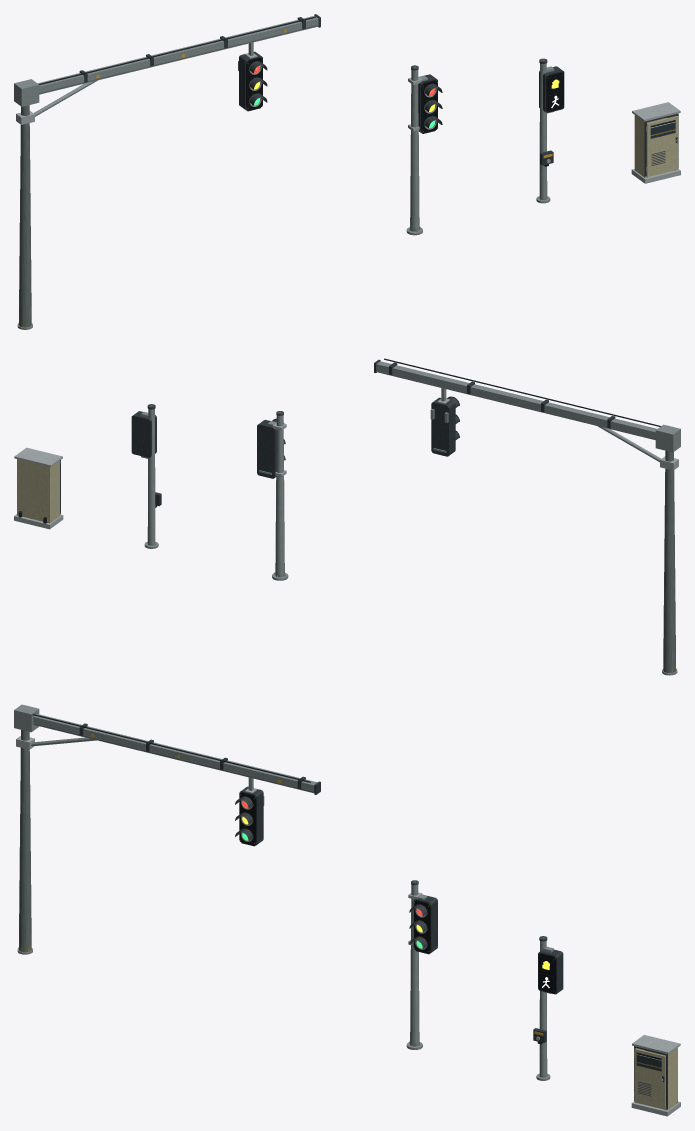
File: ProjectZ_Traffic_Light_Signal_Set.glb
3 views of the same model, one above another, from view 1: azimuth 30°, elevation 25°; view 2: azimuth 150°, elevation 25°; view 3: azimuth 330°, elevation 25° (orthographic).
Parts seen in each view (by area): view 1: MastArm_Primary_TaperedSquareBeam_7p50m, Mast_Tapered_Galvanized_Pole_5p92m, Cabinet_Door_INDEPENDENT_Leaf_LOCAL_X0_TO_0p79, Roadside_Column_Tapered4p05M, Pedestrian_Pole_3p45m, Cabinet_SheetMetal_WallLeft, MastArm_Top_MountingCollar, MastArm_CableConduit, Cabinet_Rainproof_OverhangingRoof, MastArm_Front_LongitudinalSeam, Overhead_Faceplate_Recessed_Dark, Roadside_Faceplate_Recessed_Dark; view 2: MastArm_Primary_TaperedSquareBeam_7p50m, Mast_Tapered_Galvanized_Pole_5p92m, Cabinet_SheetMetal_BackPanel, Roadside_Column_Tapered4p05M, Overhead_Housing_RoundedPolymer_Body, Roadside_Housing_RoundedPolymer_Body, Ped_Display_RoundedWeatherproofHousing, Pedestrian_Pole_3p45m, MastArm_Top_MountingCollar, Cabinet_SheetMetal_WallLeft, MastArm_CableConduit, Cabinet_Rainproof_OverhangingRoof; view 3: MastArm_Primary_TaperedSquareBeam_7p50m, Mast_Tapered_Galvanized_Pole_5p92m, Cabinet_Door_INDEPENDENT_Leaf_LOCAL_X0_TO_0p79, Roadside_Column_Tapered4p05M, Pedestrian_Pole_3p45m.
Boxes of the visible parts, left/top/right/bottom form: MastArm_Primary_TaperedSquareBeam_7p50m: left=38, top=15, right=318, bottom=94; Mast_Tapered_Galvanized_Pole_5p92m: left=18, top=105, right=31, bottom=327; Cabinet_Door_INDEPENDENT_Leaf_LOCAL_X0_TO_0p79: left=646, top=116, right=678, bottom=176; Roadside_Column_Tapered4p05M: left=410, top=70, right=419, bottom=231; Pedestrian_Pole_3p45m: left=539, top=63, right=547, bottom=199; Cabinet_SheetMetal_WallLeft: left=634, top=115, right=645, bottom=177; MastArm_Top_MountingCollar: left=14, top=79, right=39, bottom=106; MastArm_CableConduit: left=39, top=16, right=315, bottom=84; Cabinet_Rainproof_OverhangingRoof: left=632, top=102, right=680, bottom=121; MastArm_Front_LongitudinalSeam: left=39, top=25, right=317, bottom=93; Overhead_Faceplate_Recessed_Dark: left=246, top=57, right=262, bottom=110; Roadside_Faceplate_Recessed_Dark: left=421, top=80, right=437, bottom=132; MastArm_Primary_TaperedSquareBeam_7p50m: left=376, top=361, right=656, bottom=439; Mast_Tapered_Galvanized_Pole_5p92m: left=663, top=450, right=676, bottom=672; Cabinet_SheetMetal_BackPanel: left=17, top=459, right=50, bottom=523; Roadside_Column_Tapered4p05M: left=275, top=415, right=284, bottom=577; Overhead_Housing_RoundedPolymer_Body: left=431, top=397, right=455, bottom=456; Roadside_Housing_RoundedPolymer_Body: left=257, top=419, right=276, bottom=478; Ped_Display_RoundedWeatherproofHousing: left=131, top=411, right=156, bottom=457; Pedestrian_Pole_3p45m: left=147, top=409, right=155, bottom=545; MastArm_Top_MountingCollar: left=655, top=424, right=680, bottom=452; Cabinet_SheetMetal_WallLeft: left=50, top=461, right=60, bottom=522; MastArm_CableConduit: left=384, top=358, right=660, bottom=426; Cabinet_Rainproof_OverhangingRoof: left=14, top=447, right=62, bottom=467; MastArm_Primary_TaperedSquareBeam_7p50m: left=33, top=714, right=317, bottom=793; Mast_Tapered_Galvanized_Pole_5p92m: left=18, top=730, right=31, bottom=952; Cabinet_Door_INDEPENDENT_Leaf_LOCAL_X0_TO_0p79: left=634, top=1048, right=665, bottom=1108; Roadside_Column_Tapered4p05M: left=410, top=885, right=419, bottom=1046; Pedestrian_Pole_3p45m: left=539, top=941, right=547, bottom=1077.
Size of the model in its own units: 16.86 by 5.99 by 0.719.
Materials: 6 (6 with a texture image).
